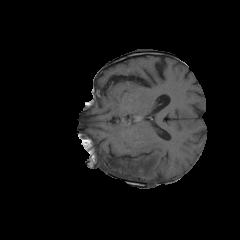glioma: (88, 140, 166, 184)
